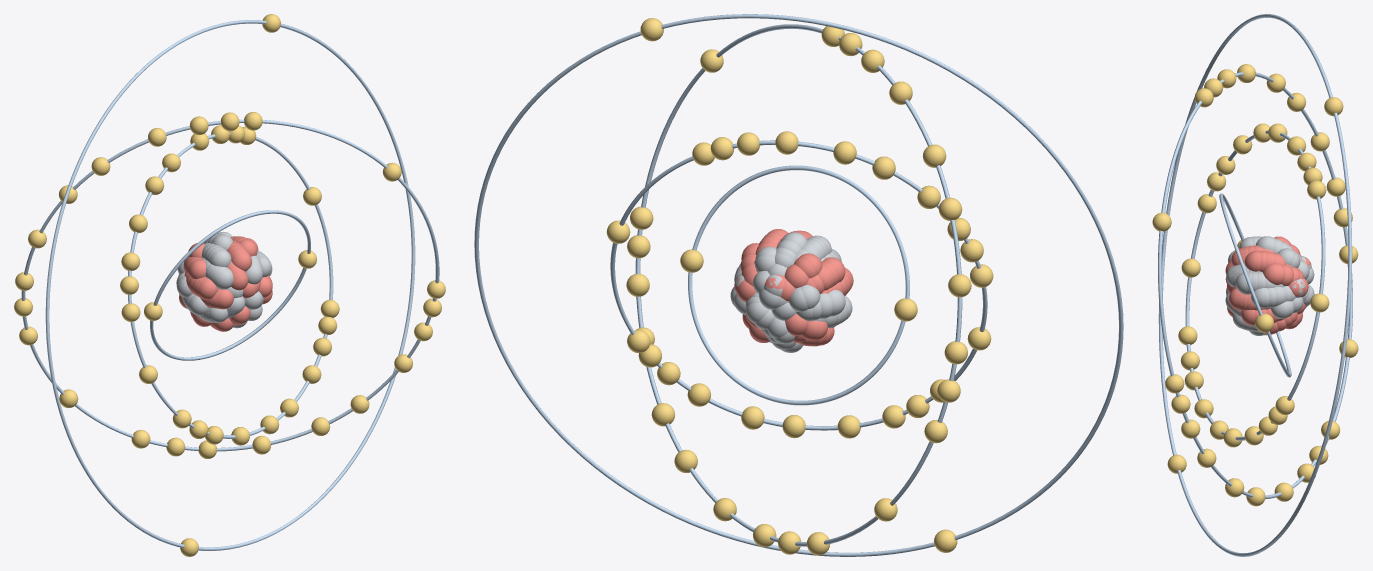
The model's file is atoms.glb.
The picture shows the model from 3 angles, left to right: view 1: azimuth 30°, elevation 25°; view 2: azimuth 150°, elevation 25°; view 3: azimuth 270°, elevation 25°; orthographic projection. The views are drawn at different scales.
Parts seen in each view (by area): view 1: k_shell_N, na_shell_M, ar_neutrons, li_shell_L, h_shell_K, cl_electrons_M, ar_electrons_M, f_electrons_L, ca_protons, ar_protons, p_electrons_M, n_electrons_L (+4 smaller); view 2: k_shell_N, na_shell_M, h_shell_K, li_shell_L, cl_electrons_M, ar_electrons_M, f_electrons_L, n_electrons_L, k_neutrons, ar_neutrons, o_electrons_L, s_electrons_M (+7 smaller); view 3: k_shell_N, na_shell_M, li_shell_L, ar_electrons_M, f_electrons_L, cl_electrons_M, ar_neutrons, n_electrons_L, ne_electrons_L, o_electrons_L, p_electrons_M, h_shell_K (+15 smaller).
Part boxes in pixels (x1,y1,x2,y2): k_shell_N: (45, 20, 415, 550); na_shell_M: (21, 119, 439, 451); ar_neutrons: (177, 231, 272, 328); li_shell_L: (128, 132, 333, 438); h_shell_K: (150, 210, 310, 360); cl_electrons_M: (19, 112, 441, 448); ar_electrons_M: (15, 112, 445, 458); f_electrons_L: (121, 125, 337, 434); ca_protons: (179, 238, 272, 331); ar_protons: (179, 238, 272, 331); p_electrons_M: (14, 128, 412, 456); n_electrons_L: (120, 133, 321, 438); k_shell_N: (474, 14, 1123, 556); na_shell_M: (635, 24, 962, 546); h_shell_K: (688, 165, 909, 405); li_shell_L: (610, 140, 987, 430); cl_electrons_M: (627, 33, 962, 555); ar_electrons_M: (630, 26, 967, 547); f_electrons_L: (610, 137, 993, 438); n_electrons_L: (606, 131, 983, 417); k_neutrons: (730, 235, 850, 352); ar_neutrons: (730, 232, 852, 352); o_electrons_L: (607, 132, 990, 437); s_electrons_M: (626, 49, 971, 521); k_shell_N: (1158, 14, 1352, 556); na_shell_M: (1158, 72, 1352, 499); li_shell_L: (1185, 130, 1325, 440); ar_electrons_M: (1152, 73, 1358, 496); f_electrons_L: (1178, 123, 1326, 439); cl_electrons_M: (1152, 78, 1358, 506); ar_neutrons: (1225, 236, 1314, 335); n_electrons_L: (1180, 136, 1329, 445); ne_electrons_L: (1184, 156, 1326, 414); o_electrons_L: (1181, 135, 1329, 435); p_electrons_M: (1153, 64, 1352, 467); h_shell_K: (1219, 193, 1291, 377).
Size of the model in its own units: 0.2425 by 0.2492 by 0.0962.
